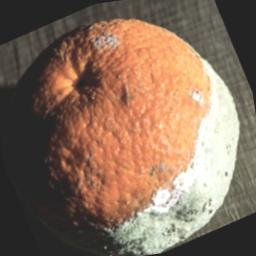Orange Rotten: (0, 1, 243, 256)
